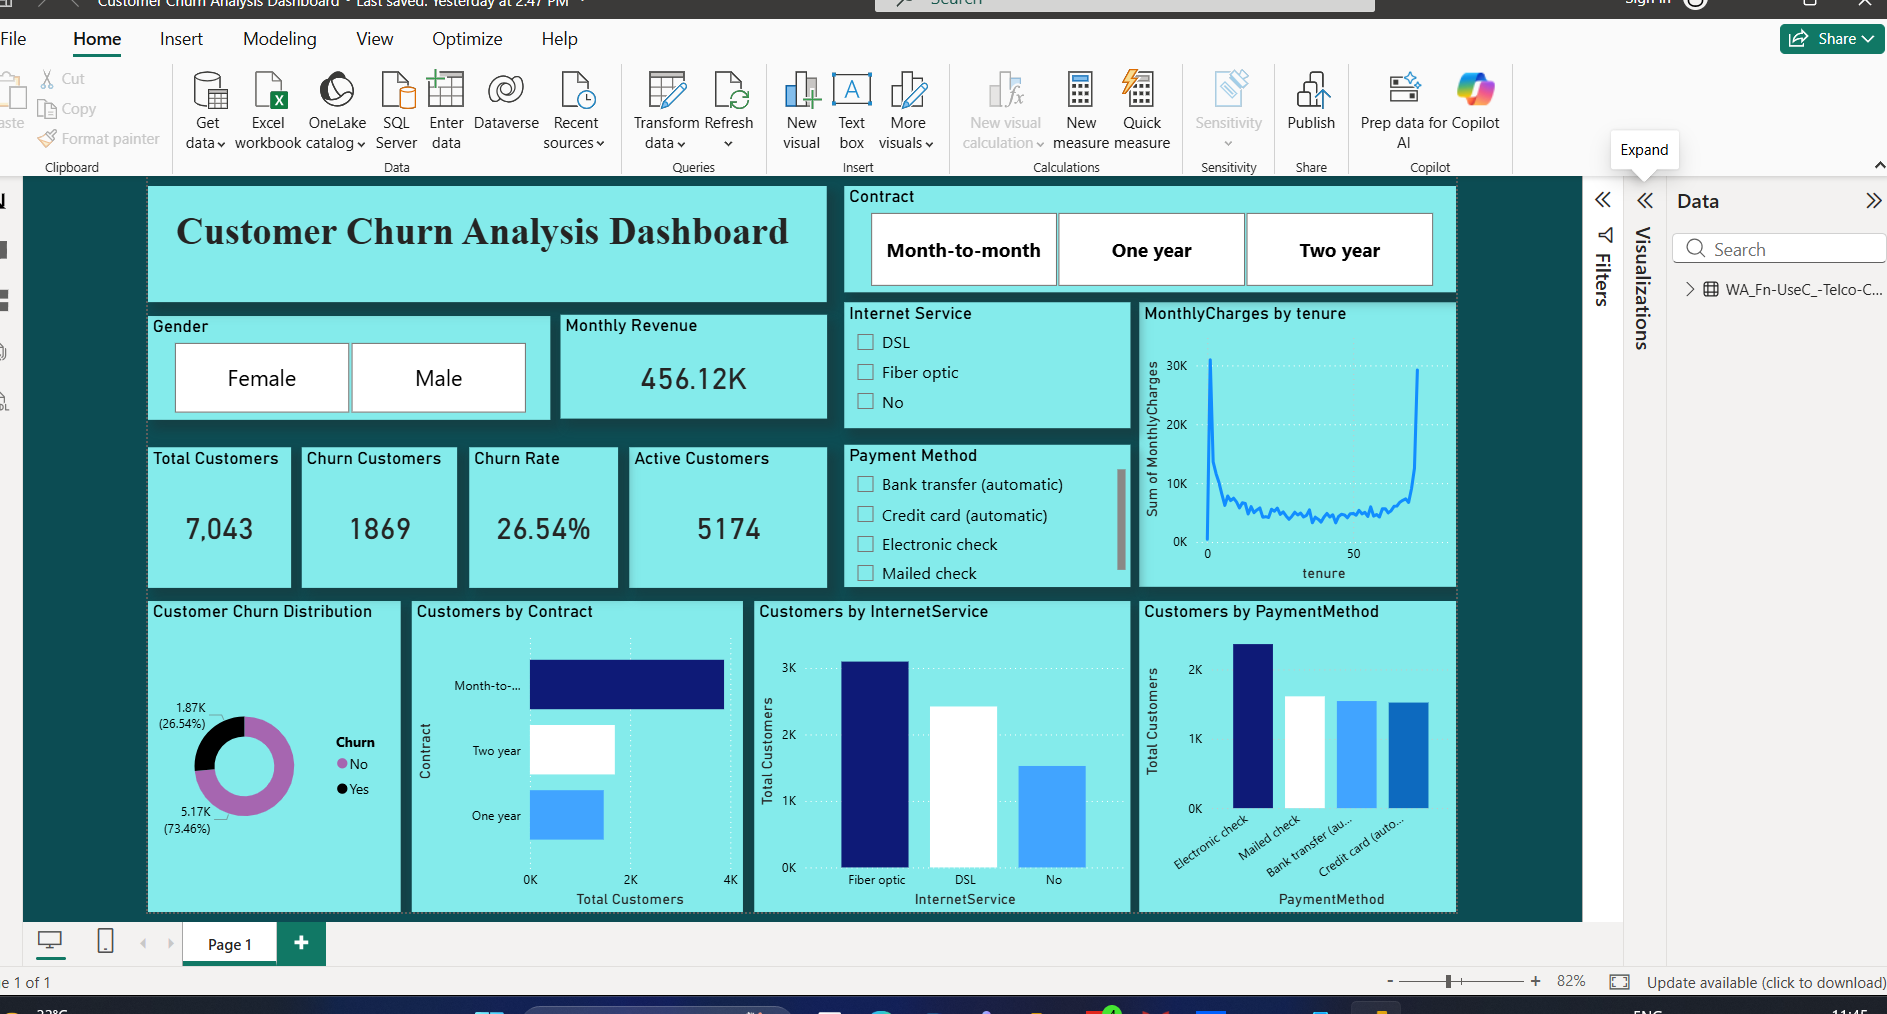

The dashboard page shown, as its layout file describes it:
{"tool":"powerbi","page":{"name":"Page 1","canvas":[1280,720],"ordinal":0},"visuals":[{"type":"donutChart","title":"Customer Churn Distribution","fields":{"Category":["WA_Fn-UseC_-Telco-Customer-Chur.Churn"],"Y":["CountNonNull(WA_Fn-UseC_-Telco-Customer-Chur.customerID)"]},"box":[0,415.8,247,304.6],"z":0},{"type":"barChart","title":"Customers by Contract","fields":{"Category":["WA_Fn-UseC_-Telco-Customer-Chur.Contract"],"Y":["WA_Fn-UseC_-Telco-Customer-Chur.Total Customers"]},"box":[258,415.8,323.8,304.6],"z":1000},{"type":"columnChart","title":"Customers by InternetService","fields":{"Category":["WA_Fn-UseC_-Telco-Customer-Chur.InternetService"],"Y":["WA_Fn-UseC_-Telco-Customer-Chur.Total Customers"]},"box":[592.8,415.8,367.8,304.6],"z":2000},{"type":"lineChart","title":"MonthlyCharges by tenure","fields":{"Category":["WA_Fn-UseC_-Telco-Customer-Chur.tenure"],"Y":["Sum(WA_Fn-UseC_-Telco-Customer-Chur.MonthlyCharges)"]},"box":[970.2,123.5,310.1,278.6],"z":3000},{"type":"columnChart","title":" Customers by PaymentMethod","fields":{"Category":["WA_Fn-UseC_-Telco-Customer-Chur.PaymentMethod"],"Y":["WA_Fn-UseC_-Telco-Customer-Chur.Total Customers"]},"box":[970.2,415.8,310.1,304.6],"z":4000},{"type":"slicer","title":"Gender","fields":{"Values":["WA_Fn-UseC_-Telco-Customer-Chur.gender"]},"box":[0,137.2,393.8,101.5],"z":5000},{"type":"slicer","title":"Contract","fields":{"Values":["WA_Fn-UseC_-Telco-Customer-Chur.Contract"]},"box":[680.6,9.6,599.7,104.3],"z":6000},{"type":"slicer","title":"Internet Service","fields":{"Values":["WA_Fn-UseC_-Telco-Customer-Chur.InternetService"]},"box":[681.1,123.5,280,123.5],"z":7000},{"type":"slicer","title":"Payment Method","fields":{"Values":["WA_Fn-UseC_-Telco-Customer-Chur.PaymentMethod"]},"box":[681.1,262.9,280,139.4],"z":8000},{"type":"card","title":"Total Customers","fields":{"Values":["WA_Fn-UseC_-Telco-Customer-Chur.Total Customers"]},"box":[0,264.8,140,137.2],"z":9000},{"type":"card","title":"Churn Customers","fields":{"Values":["WA_Fn-UseC_-Telco-Customer-Chur.Churn Customers"]},"box":[150.9,264.8,152.3,137.2],"z":10000},{"type":"card","title":"Active Customers","fields":{"Values":["WA_Fn-UseC_-Telco-Customer-Chur.Active Customer"]},"box":[470.7,264.8,193.5,137.2],"z":11000},{"type":"card","title":"Churn Rate ","fields":{"Values":["WA_Fn-UseC_-Telco-Customer-Chur.Churn Rate"]},"box":[314.2,264.8,145.5,137.2],"z":12000},{"type":"textbox","box":[0,9.6,664.2,113.9],"z":13000},{"type":"card","title":"Monthly Revenue","fields":{"Values":["WA_Fn-UseC_-Telco-Customer-Chur.Monthly Revenue"]},"box":[403.4,135.8,260.7,101.5],"z":14000}]}

Visuals, with their boxes on the page's 1280x720 design canvas (x1, y1, x2, y2). These are canvas units, not pixel positions in the 1887x1014 screenshot, which may show the page scaled, cropped or inside an application window:
"Customer Churn Distribution" donutChart: {"left": 0, "top": 416, "right": 247, "bottom": 720}
"Customers by Contract" barChart: {"left": 258, "top": 416, "right": 582, "bottom": 720}
"Customers by InternetService" columnChart: {"left": 593, "top": 416, "right": 961, "bottom": 720}
"MonthlyCharges by tenure" lineChart: {"left": 970, "top": 124, "right": 1280, "bottom": 402}
" Customers by PaymentMethod" columnChart: {"left": 970, "top": 416, "right": 1280, "bottom": 720}
"Gender" slicer: {"left": 0, "top": 137, "right": 394, "bottom": 239}
"Contract" slicer: {"left": 681, "top": 10, "right": 1280, "bottom": 114}
"Internet Service" slicer: {"left": 681, "top": 124, "right": 961, "bottom": 247}
"Payment Method" slicer: {"left": 681, "top": 263, "right": 961, "bottom": 402}
"Total Customers" card: {"left": 0, "top": 265, "right": 140, "bottom": 402}
"Churn Customers" card: {"left": 151, "top": 265, "right": 303, "bottom": 402}
"Active Customers" card: {"left": 471, "top": 265, "right": 664, "bottom": 402}
"Churn Rate " card: {"left": 314, "top": 265, "right": 460, "bottom": 402}
textbox: {"left": 0, "top": 10, "right": 664, "bottom": 124}
"Monthly Revenue" card: {"left": 403, "top": 136, "right": 664, "bottom": 237}
